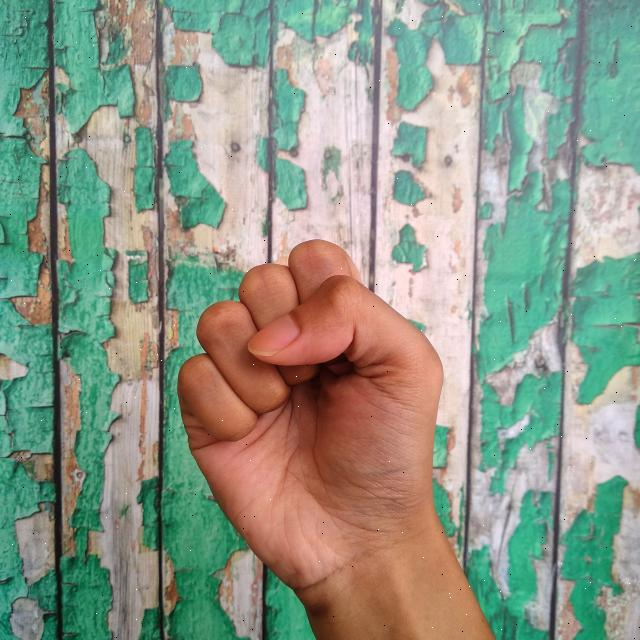S: (170, 228, 492, 640)
